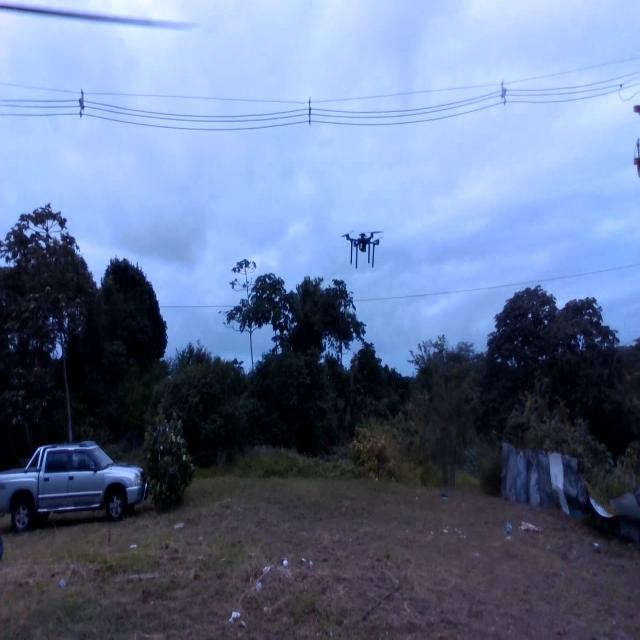-uav-: (342, 219, 388, 277)
